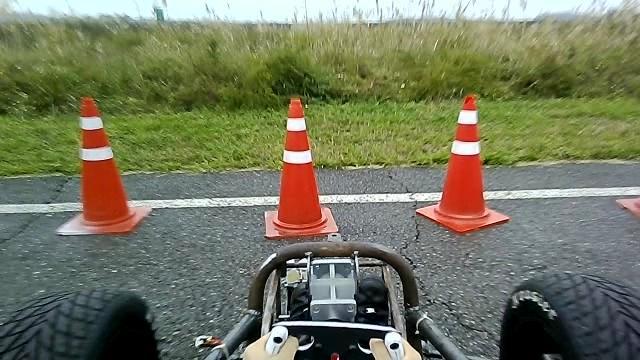red cone: (55, 95, 151, 236), (415, 93, 510, 233), (263, 96, 339, 239)
